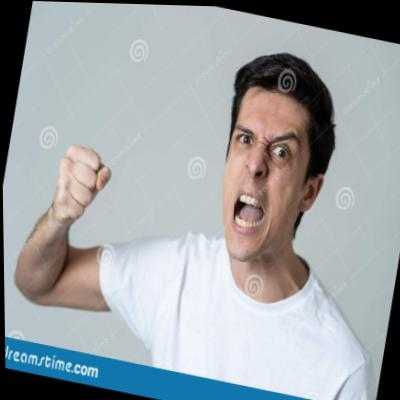angry: (194, 65, 328, 279)
